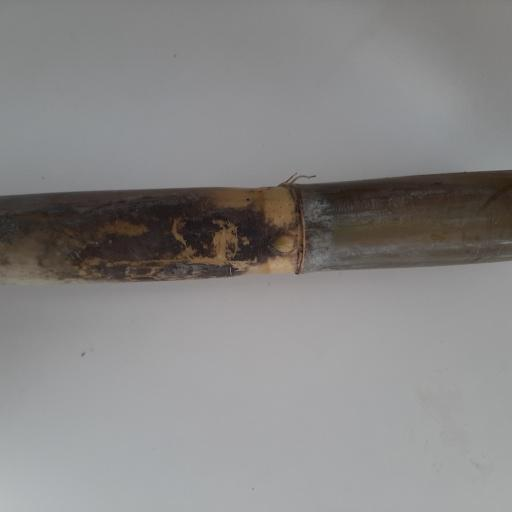Bud: (267, 232, 297, 256)
